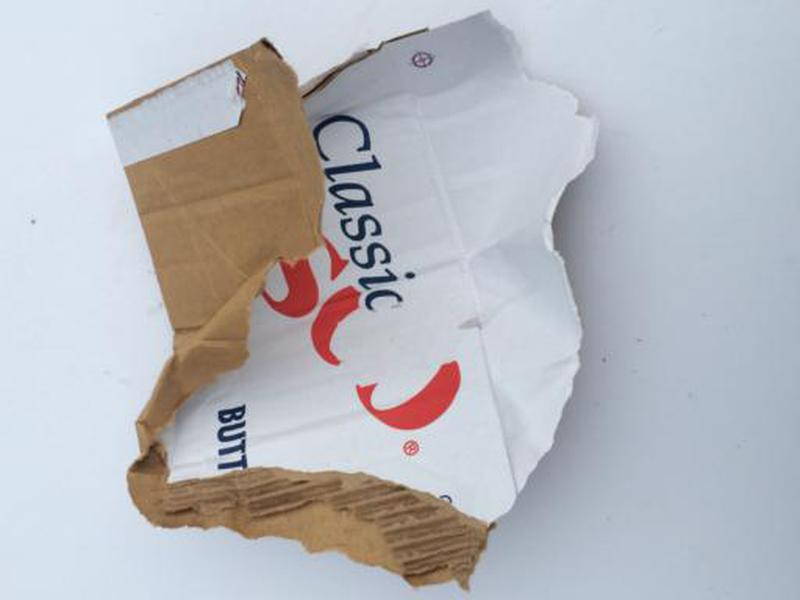cardboard: (100, 9, 607, 600)
